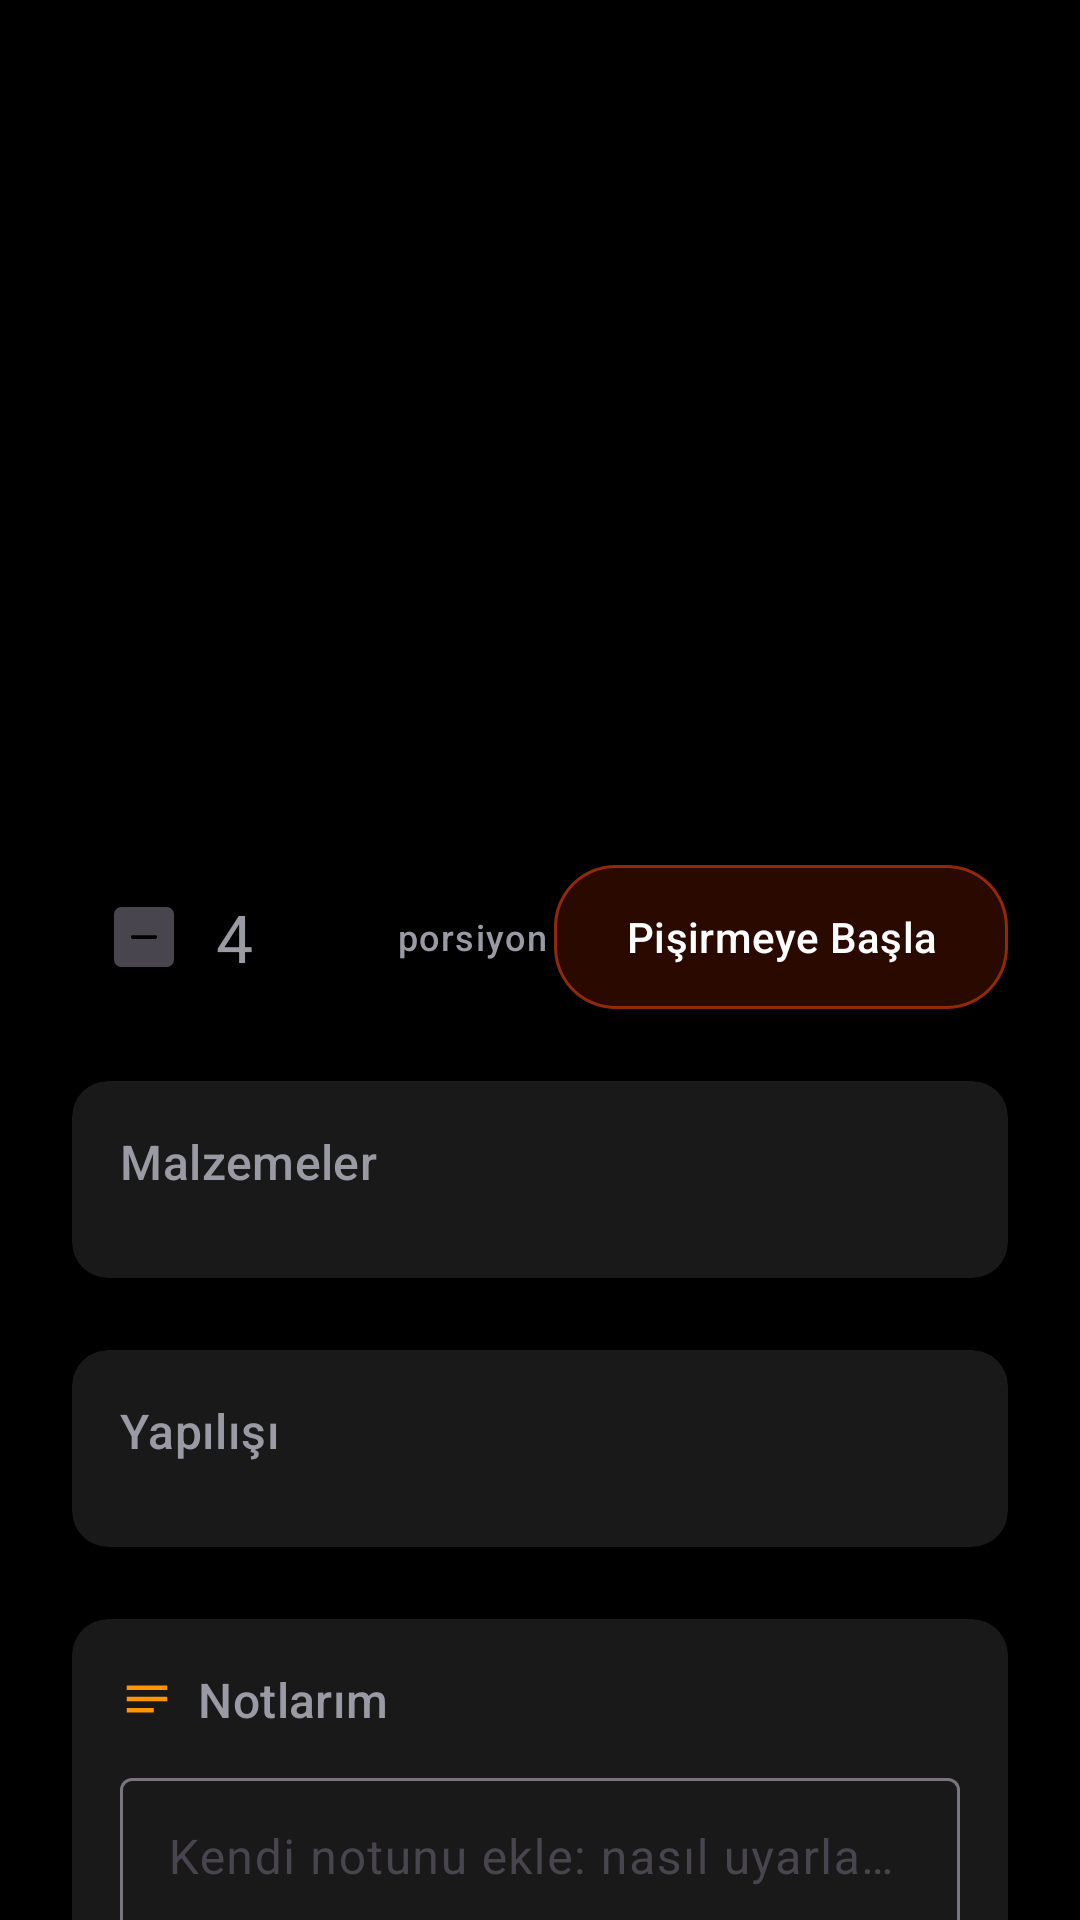

Screen size 1080 × 1920. Icon name, then its box in pixels as rect(x1, y1, x2, y2):
note: rect(126, 1685, 168, 1713)
Porsiyonu azalt: rect(114, 907, 174, 967)
